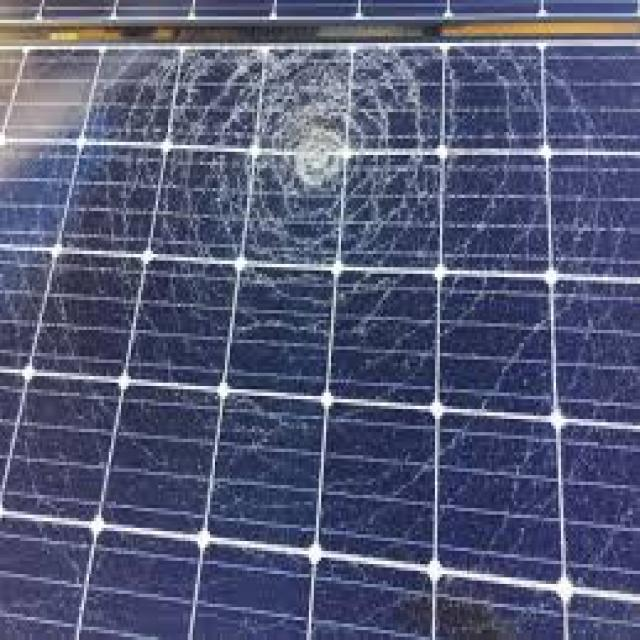faulty: (5, 37, 639, 640)
